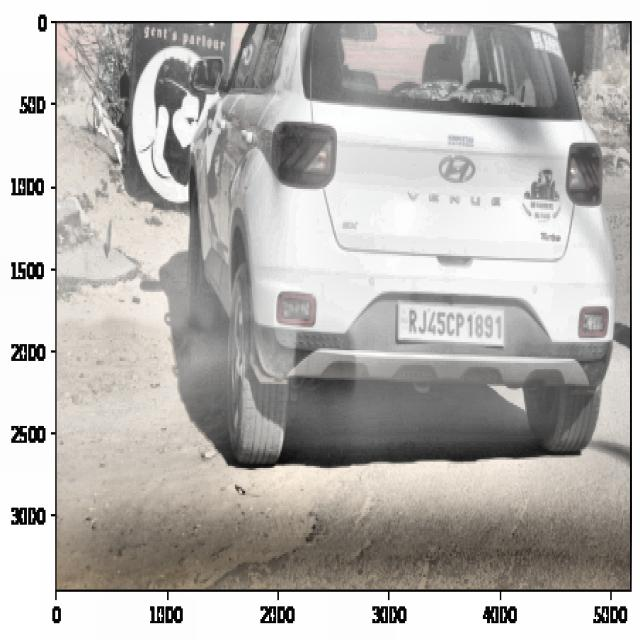license_plate: (404, 301, 505, 351)
